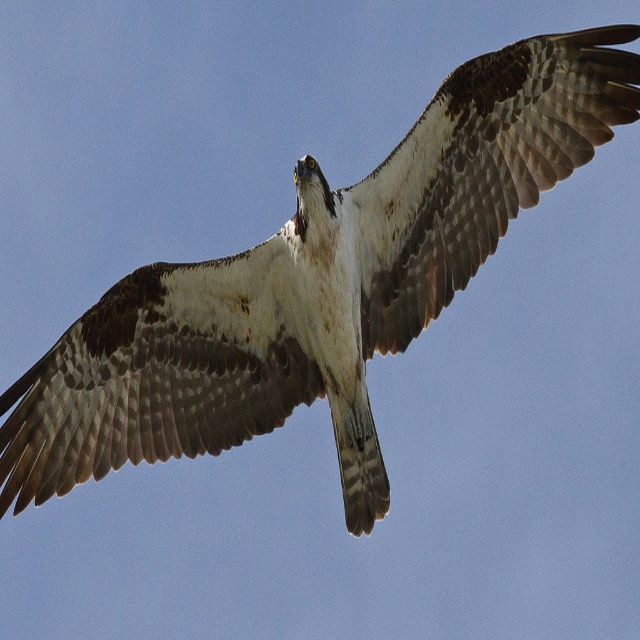Eagle: (0, 24, 640, 538)
